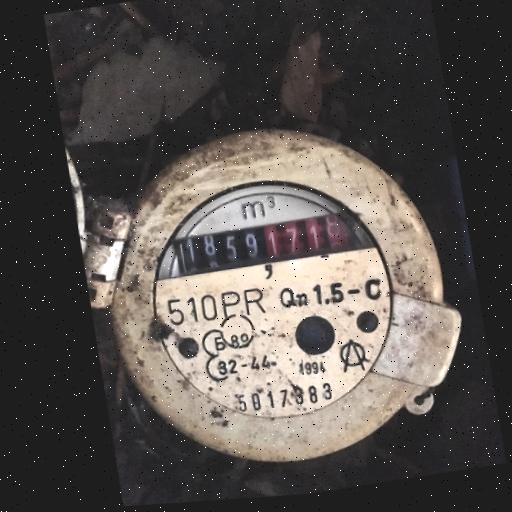1: (181, 237, 202, 273), (305, 217, 325, 252), (262, 224, 280, 259)
5: (221, 231, 243, 264)
7: (282, 221, 302, 255)
8: (323, 213, 346, 251), (200, 233, 222, 268)
9: (241, 228, 263, 261)
border_water_meter_number: (172, 212, 354, 278)
